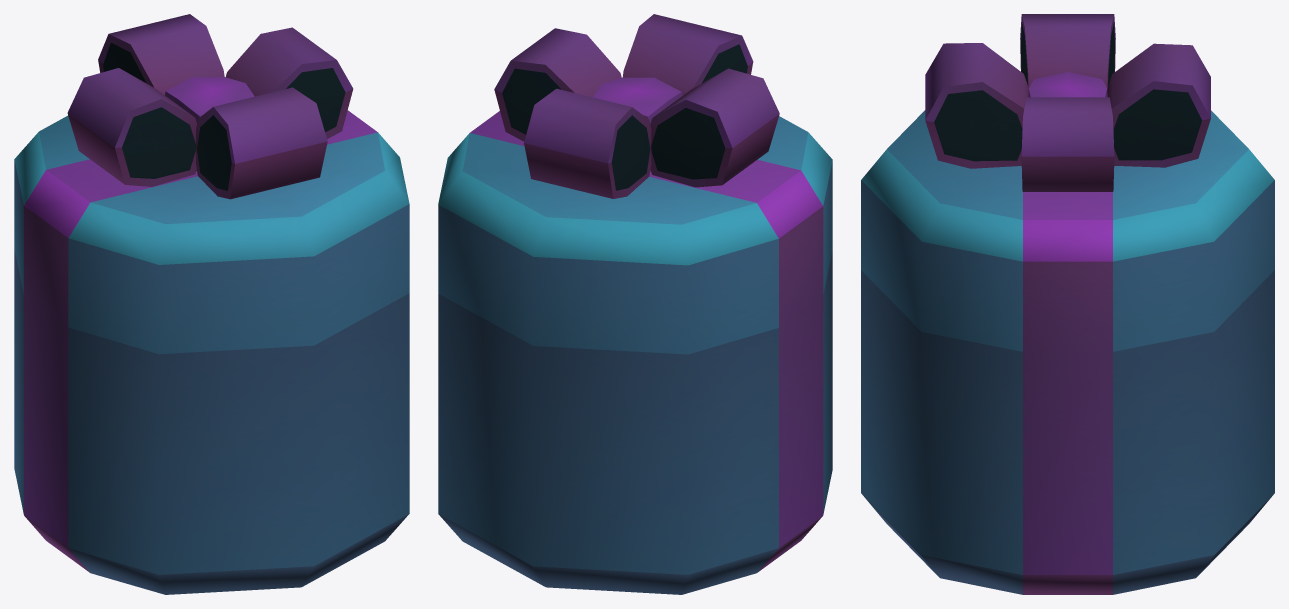
The model's file is presi_round_2_blue.fbx.
3 renders of one model, left to right at view 1: azimuth 30°, elevation 25°; view 2: azimuth 150°, elevation 25°; view 3: azimuth 270°, elevation 25°, orthographic.
Visible parts, largest first — view 1: presi_round_2_blue; view 2: presi_round_2_blue; view 3: presi_round_2_blue.
Boxes of the visible parts, x1,y1,x2,y2 form: presi_round_2_blue: (14, 14, 409, 594); presi_round_2_blue: (438, 14, 832, 594); presi_round_2_blue: (861, 14, 1274, 594).
Size of the model in its own units: 93.59 by 123 by 100.
1 material, 1 textured.
